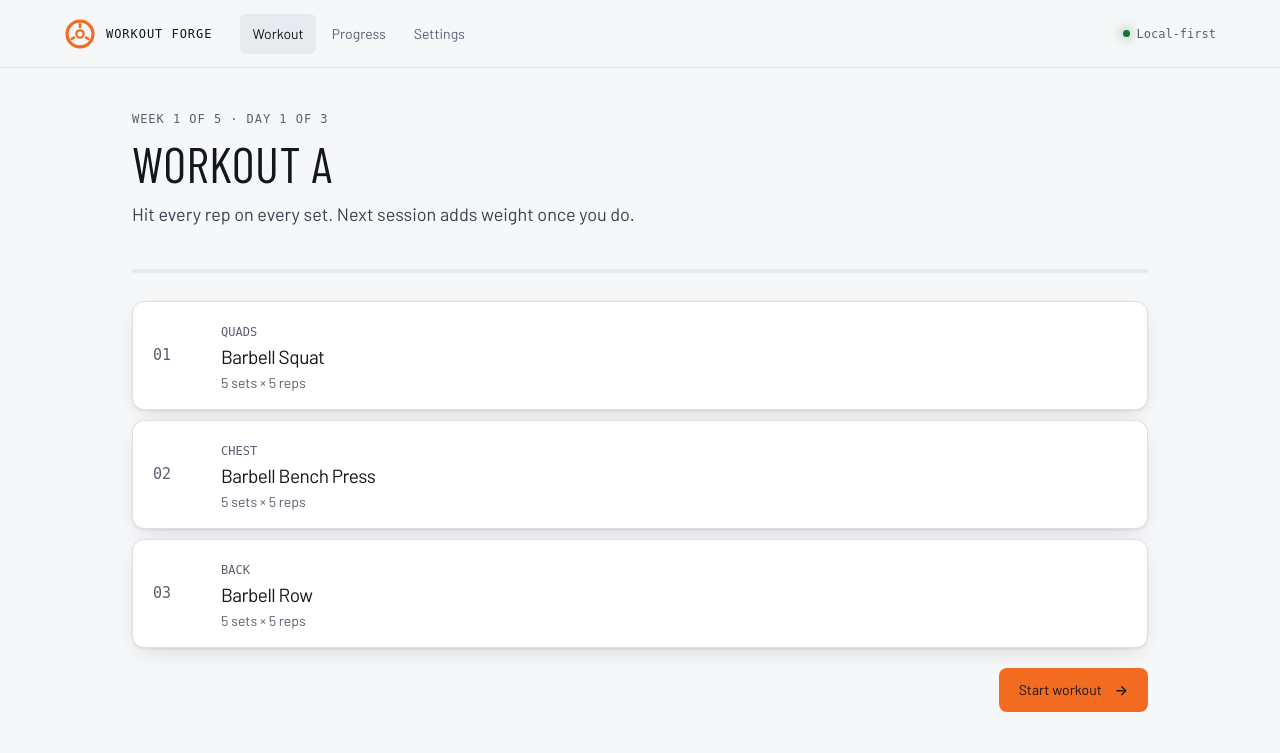
it: warm-up hint in the session › shows in a StrongLifts 5x5 session, following that weight
(page scrolled)
Click the button "Start workout →".
click(1073, 690)  # box [999, 668, 1148, 712]
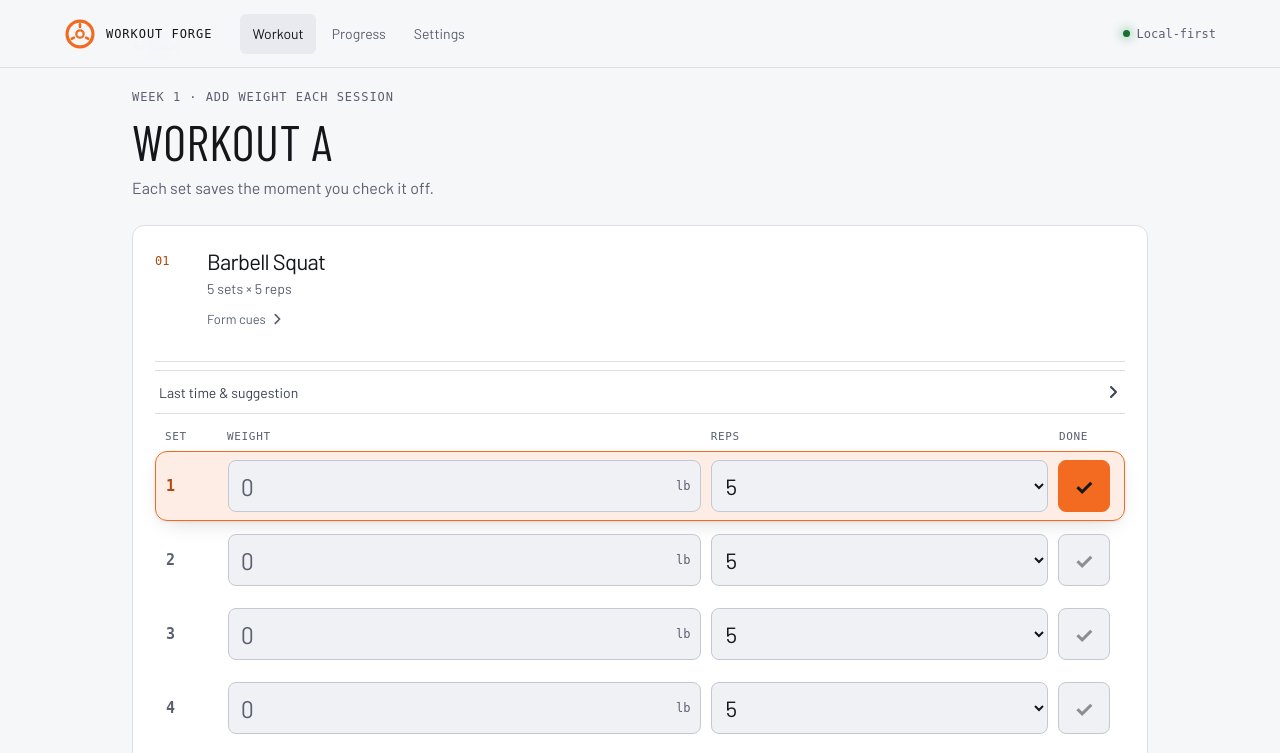
Type "100" into the field named "Set 1 weight".
click(464, 486); type("100")  # box [228, 460, 700, 512]
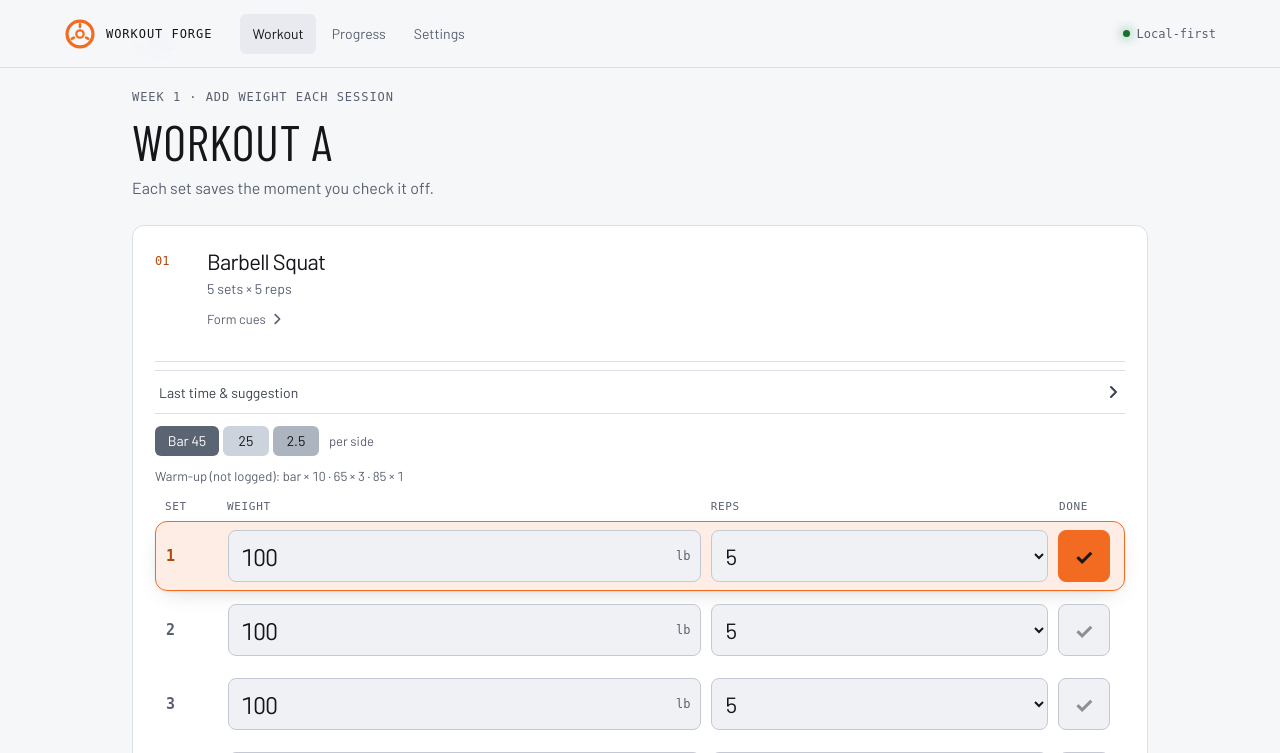
Check: the text with class "warmup-hint" reads "Warm-up (not logged): bar × 10 · 65 × 3 · 85 × 1", box [155, 468, 404, 484]
